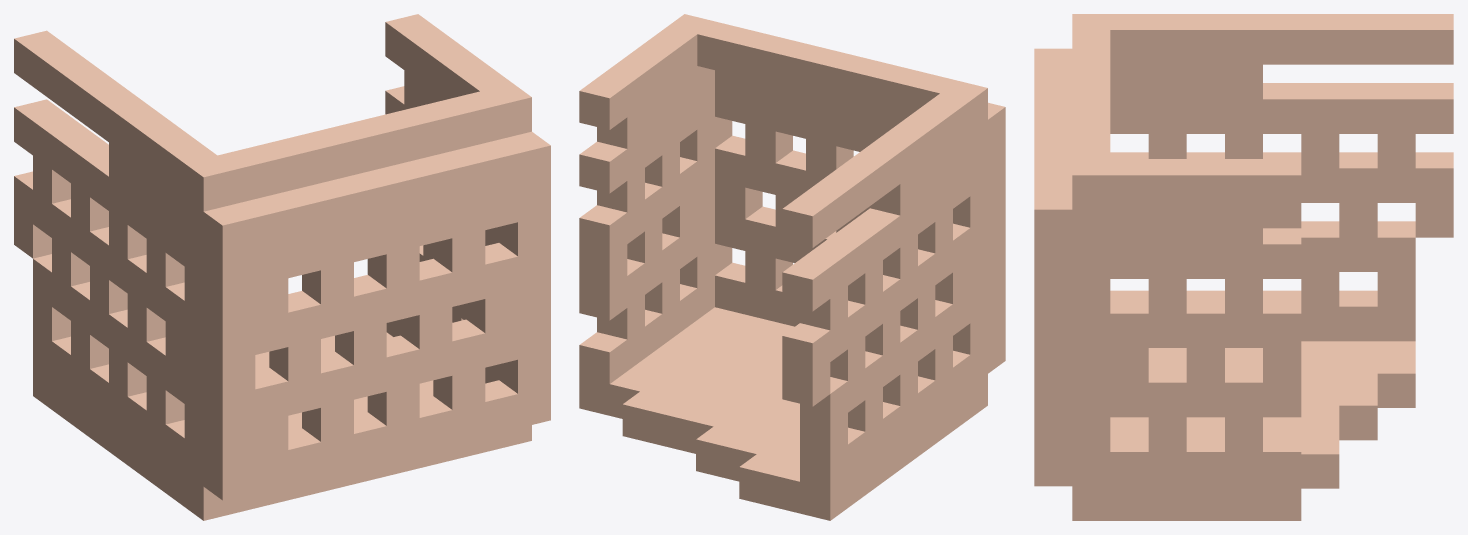
The model's file is LaundryBasket1.obj.
3 views of the same model, side by side, from view 1: azimuth 30°, elevation 25°; view 2: azimuth 150°, elevation 25°; view 3: azimuth 270°, elevation 25° (orthographic). The views are drawn at different scales.
Parts seen in each view (by area): view 1: LaundryBasket1; view 2: LaundryBasket1; view 3: LaundryBasket1.
Boxes of the visible parts, box(x1,y1,x2,y2) form: LaundryBasket1: box(14, 14, 550, 520); LaundryBasket1: box(579, 14, 1005, 520); LaundryBasket1: box(1034, 14, 1453, 520).
Size of the model in its own units: 10 by 10 by 11.
1 material, 1 textured.
